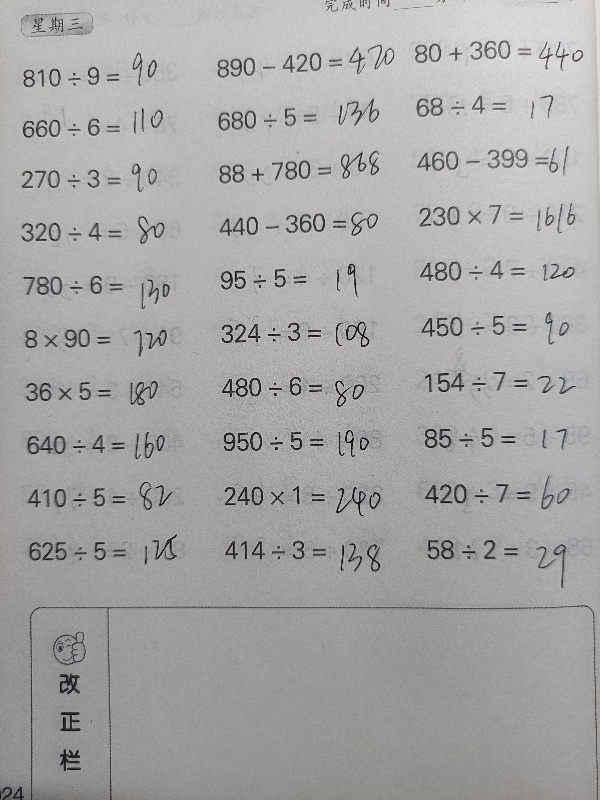equation: (419, 532, 596, 586), (416, 471, 596, 521), (208, 43, 388, 87), (406, 30, 586, 74), (408, 140, 588, 183), (19, 425, 199, 467), (214, 368, 394, 410), (210, 150, 390, 192), (210, 206, 390, 247), (13, 105, 193, 145), (415, 363, 595, 400), (412, 307, 592, 343), (11, 6, 191, 42), (20, 534, 200, 569), (216, 478, 396, 513), (215, 424, 395, 459), (415, 420, 595, 455), (212, 315, 392, 350), (211, 261, 391, 296), (411, 253, 591, 288), (13, 215, 193, 250), (410, 197, 590, 232), (209, 101, 389, 136), (407, 87, 587, 122), (14, 59, 194, 94), (217, 533, 397, 567), (18, 480, 198, 514), (17, 374, 197, 408), (16, 321, 196, 355), (14, 268, 194, 302), (14, 162, 194, 196)
